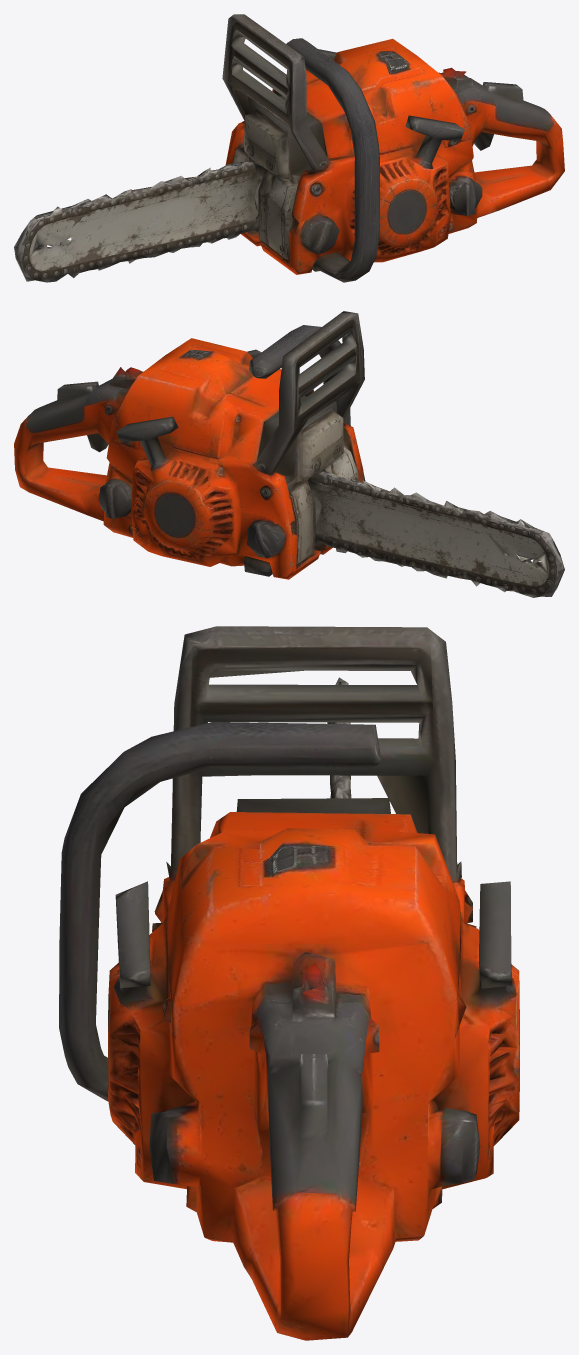
File: testere.glb
The picture shows the model from 3 angles, top to bottom: view 1: azimuth 30°, elevation 25°; view 2: azimuth 150°, elevation 25°; view 3: azimuth 270°, elevation 25°; orthographic projection. The views are drawn at different scales.
Visible parts, largest first — view 1: tripo_node_7839ffd7-edc3-4d23-a158-76582c503cb2; view 2: tripo_node_7839ffd7-edc3-4d23-a158-76582c503cb2; view 3: tripo_node_7839ffd7-edc3-4d23-a158-76582c503cb2.
Part boxes in pixels (<box>): tripo_node_7839ffd7-edc3-4d23-a158-76582c503cb2: <box>14,14,564,282</box>; tripo_node_7839ffd7-edc3-4d23-a158-76582c503cb2: <box>14,311,564,597</box>; tripo_node_7839ffd7-edc3-4d23-a158-76582c503cb2: <box>59,626,519,1340</box>.
Bounding box in the file's own units: 0.9738 × 0.3807 × 0.3627.
1 material, 1 textured.
